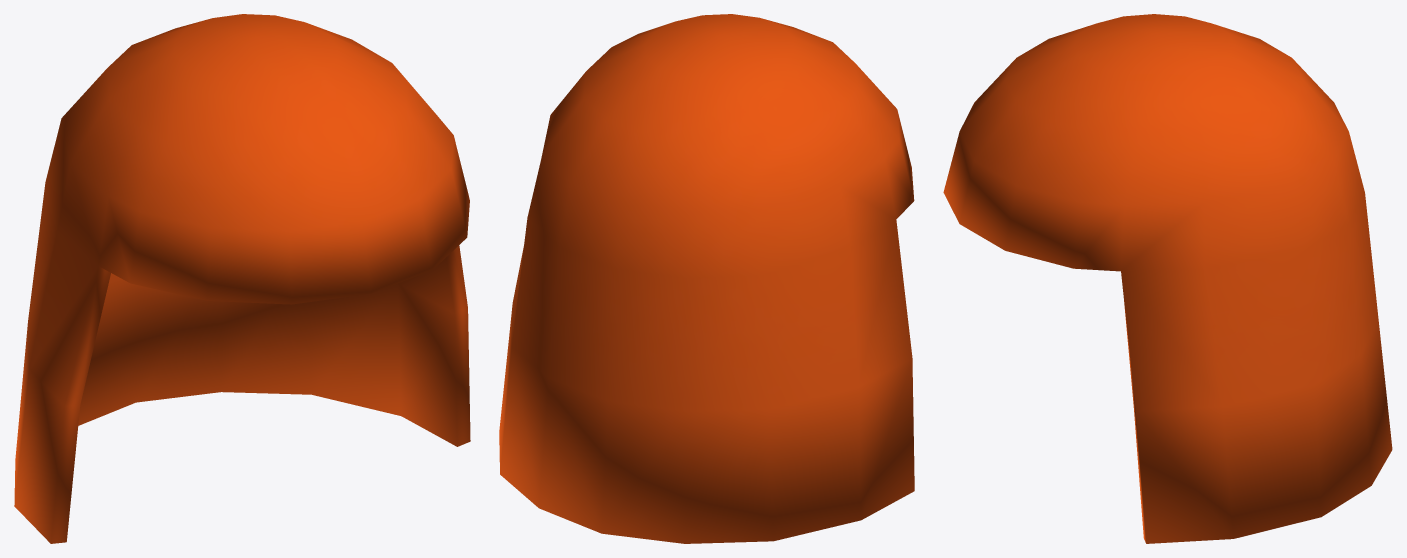
The model's file is rh_hair.fbx.
The picture shows the model from 3 angles, left to right: view 1: azimuth 30°, elevation 25°; view 2: azimuth 150°, elevation 25°; view 3: azimuth 270°, elevation 25°; orthographic projection. The views are drawn at different scales.
Visible parts, largest first — view 1: RH_Hair; view 2: RH_Hair; view 3: RH_Hair.
Boxes of the visible parts, <box> form: RH_Hair: <box>14,14,470,543</box>; RH_Hair: <box>499,14,914,543</box>; RH_Hair: <box>943,14,1392,543</box>.
Bounding box in the file's own units: 67.09 × 69.31 × 67.58.
